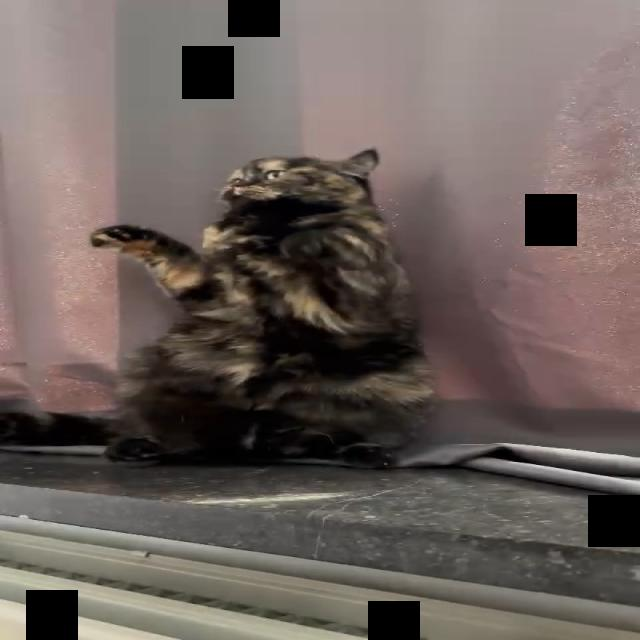authorized: (87, 146, 437, 469)
